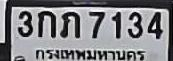1: (111, 11, 120, 38)
3: (17, 10, 32, 36), (127, 11, 142, 37)
4: (147, 11, 161, 38)
7: (88, 11, 104, 38)
A01: (37, 10, 55, 37)
A32: (60, 11, 80, 37)
BKK: (32, 46, 147, 61)
